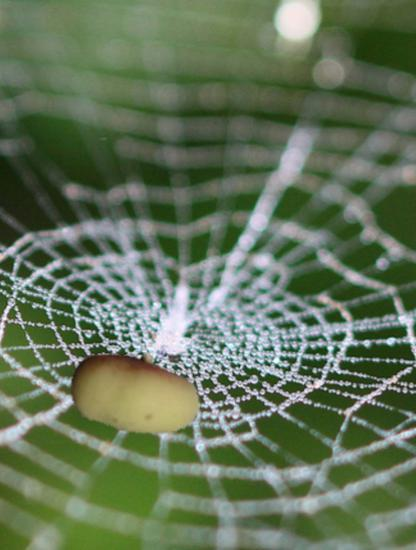Peach: (70, 328, 201, 459)
